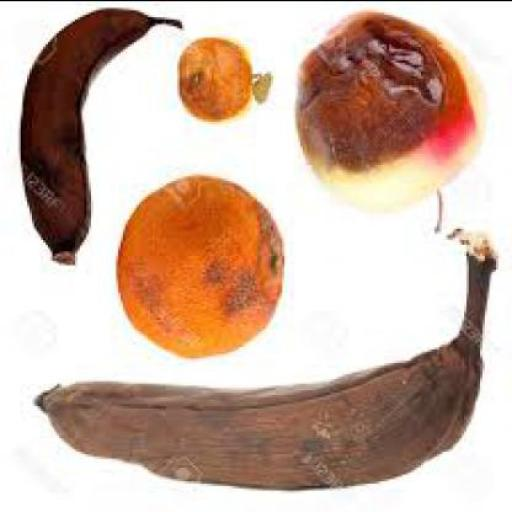biodegradable: (34, 224, 500, 490), (23, 4, 189, 262), (300, 9, 490, 205), (118, 173, 287, 355), (180, 37, 257, 118), (255, 71, 279, 100)
